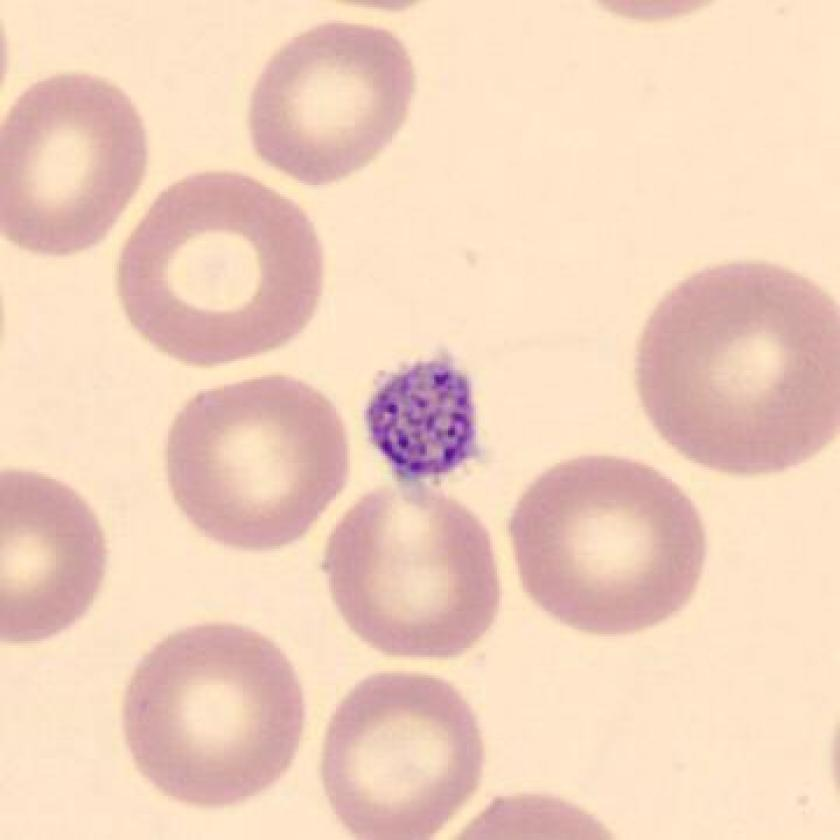platelets: (353, 344, 503, 499)
